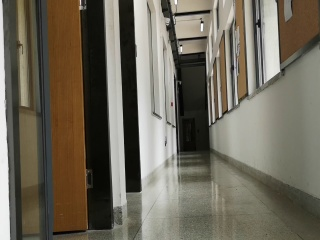room: (4, 3, 117, 237)
